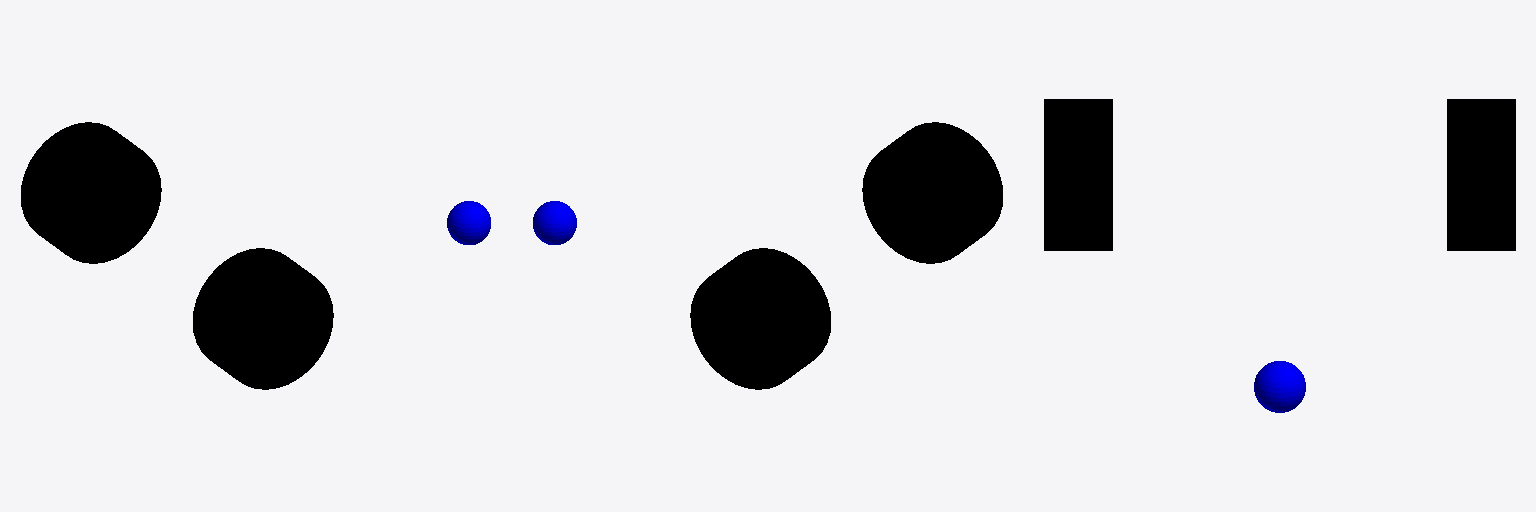
URDF robot description (follower):
<robot name="follower">

    <!--Materials-->

    <material name="red">
        <color rgba="1.0 0.0 0.0 1.0"/>
    </material>

    <material name="blue">
        <color rgba="0.0 0.0 1.0 1.0"/>
    </material>

    <material name="black">
        <color rgba="0.0 0.0 0.0 1.0"/>
    </material>

    <material name="magenta">
        <color rgba="1.0 0.0 1.0 1.0"/>
    </material>

    <!--Links-->
    <link name="base">
        <inertial>
            <mass value="1e-6"/>
            <inertia ixx="0.0" ixy="0.0" ixz="0.0" iyy="0.0" iyz="0.0" izz="0.0"/>
        </inertial>
    </link>

    <link name="chassis">
        <visual>
            <geometry>
                <!--<box size="0.1 0.08 0.015"/>-->
                <mesh filename="chassis.dae"/>
            </geometry>
            <material name="red"/>
            <origin rpy="0 0 3.14159" xyz="0 0 0"/>
        </visual>
        <collision>
            <geometry>
                <box size="0.1 0.08 0.025"/>
            </geometry>
        </collision>
        <inertial>
            <mass value="0.290"/>
            <inertia ixx="0.0" ixy="0.0" ixz="0.0" iyy="0.0" iyz="0.0" izz="6e-4"/>
        </inertial>
    </link>

    <link name="left_wheel">
        <visual>
            <geometry>
                <cylinder length="0.013" radius="0.0145"/>
            </geometry>
            <material name="black"/>
        </visual>
        <collision>
            <geometry>
                <cylinder length="0.013" radius="0.0145"/>
            </geometry>
        </collision>
        <contact>
          <lateral_friction value="0.6"/>
          <rolling_friction value="0.0"/>
          <stiffness value="300000"/>
          <damping value="1000"/>
        </contact>
        <inertial>
            <mass value="0.01"/>
            <inertia ixx="0.0" ixy="0.0" ixz="0.0" iyy="0.0" iyz="0.0" izz="1e-6"/>
        </inertial>
    </link>

    <link name="right_wheel">
        <visual>
            <geometry>
                <cylinder length="0.013" radius="0.0145"/>
            </geometry>
            <material name="black"/>
        </visual>
        <collision>
            <geometry>
                <cylinder length="0.013" radius="0.0145"/>
            </geometry>
        </collision>
        <contact>
          <lateral_friction value="0.6"/>
          <rolling_friction value="0.0"/>
          <stiffness value="300000"/>
          <damping value="1000"/>
        </contact>
        <inertial>
            <mass value="0.01"/>
            <inertia ixx="0.0" ixy="0.0" ixz="0.0" iyy="0.0" iyz="0.0" izz="1e-6"/>
        </inertial>
    </link>

    <link name="caster">
        <visual>
            <geometry>
                <sphere radius="0.005"/>
            </geometry>
            <material name="blue"/>
        </visual>
        <collision>
            <geometry>
                <sphere radius="0.005"/>
            </geometry>
        </collision>
        <contact>
          <lateral_friction value="0.0"/>
          <rolling_friction value="0.0"/>
          <stiffness value="300000"/>
          <damping value="1000"/>
        </contact>
        <inertial>
            <mass value="0.001"/>
            <inertia ixx="0.0" ixy="0.0" ixz="0.0" iyy="0.0" iyz="0.0" izz="0.0"/>
        </inertial>
    </link>


    <!--Joints-->

    <joint name="chassis_to_left_wheel" type="continuous">
        <parent link="chassis"/>
        <child link="left_wheel"/>
        <origin rpy="1.5708 0 0" xyz="-0.0355 0.0385 -0.003"/>
        <axis xyz="0 0 -1"/>
    </joint>

    <joint name="chassis_to_right_wheel" type="continuous">
        <parent link="chassis"/>
        <child link="right_wheel"/>
        <origin rpy="-1.5708 0 0" xyz="-0.0355 -0.0385 -0.003"/>
        <axis xyz="0 0 1"/>
    </joint>


    <joint name="base_to_chassis" type="fixed">
        <parent link="base"/>
        <child link="chassis"/>
        <origin rpy="0 0 0" xyz="0.0355 0 0.0175"/>
    </joint>

    <joint name="chassis_to_caster" type="fixed">
        <parent link="chassis"/>
        <child link="caster"/>
        <origin rpy="0 0 0" xyz="0.04 0 -0.0125"/>
    </joint>

</robot>

--- Render facts (derived) ---
Views: 3 orthographic renders of the robot side by side, from view 1: azimuth 30°, elevation 25°; view 2: azimuth 150°, elevation 25°; view 3: azimuth 270°, elevation 25°.
Model follower with 5 links and 4 joints (2 continuous, 2 fixed), rooted at base, posed every joint at zero.
Visible links, largest first — view 1: right_wheel, left_wheel, caster; view 2: left_wheel, right_wheel, caster; view 3: left_wheel, right_wheel, caster.
Boxes of the visible links, x1=… form: right_wheel: x1=193, y1=248, x2=333, y2=389; left_wheel: x1=21, y1=122, x2=161, y2=263; caster: x1=447, y1=201, x2=490, y2=244; left_wheel: x1=690, y1=248, x2=830, y2=389; right_wheel: x1=862, y1=122, x2=1002, y2=263; caster: x1=533, y1=201, x2=576, y2=244; left_wheel: x1=1447, y1=99, x2=1515, y2=250; right_wheel: x1=1044, y1=99, x2=1112, y2=250; caster: x1=1254, y1=361, x2=1305, y2=412.
Bounding box of the posed robot: 0.095 × 0.09 × 0.029 m (x, y, z).
0 mesh visuals loaded from 1 distinct referenced files (none loaded); not drawn: 1 (reference not matched to a file when rendering).
